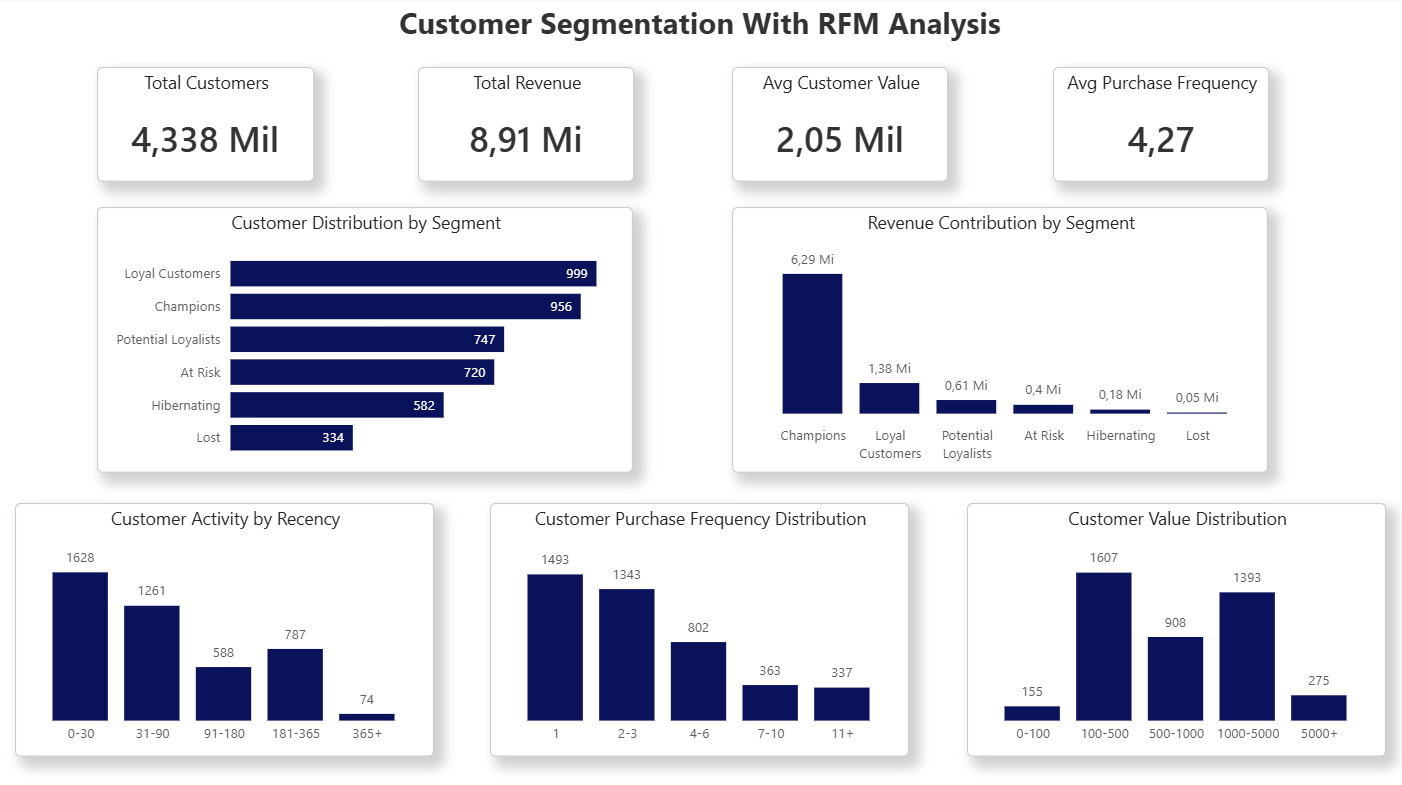

This screenshot's page, from the dashboard's own definition file:
{"tool":"powerbi","page":{"name":"Página 1","canvas":[1280,720],"ordinal":0},"visuals":[{"type":"cardVisual","title":"Total Customers","fields":{"Data":["CountNonNull(Consulta1.CustomerID)"]},"box":[93.4,63.4,196.6,104.2],"z":0},{"type":"clusteredBarChart","title":"Customer Distribution by Segment","fields":{"Category":["Consulta1.rfm_segment"],"Y":["CountNonNull(Consulta1.CustomerID)"]},"box":[93.3,190.2,486.4,241.4],"z":1000},{"type":"cardVisual","title":"Total Revenue","fields":{"Data":["Sum(Consulta1.monetary)"]},"box":[384.1,63.4,196,104.2],"z":2000},{"type":"cardVisual","title":"Avg Purchase Frequency","fields":{"Data":["Avg(Consulta1.frequency)"]},"box":[960.1,63.4,196,104.2],"z":3000},{"type":"cardVisual","title":"Avg Customer Value","fields":{"Data":["Avg(Consulta1.monetary)"]},"box":[669.4,63.4,196,104.2],"z":4000},{"type":"clusteredColumnChart","title":"Revenue Contribution by Segment","fields":{"Category":["Consulta1.rfm_segment"],"Y":["Sum(Consulta1.monetary)"]},"box":[669.3,190.2,486.4,241.4],"z":5000},{"type":"lineClusteredColumnComboChart","title":"Customer Activity by Recency","fields":{"Y":["CountNonNull(Consulta1.CustomerID)"],"Category":["Consulta1.recency_range"]},"box":[19,458.8,379.9,230.3],"z":6000},{"type":"lineClusteredColumnComboChart","title":"Customer Purchase Frequency Distribution","fields":{"Category":["Consulta1.frequency_range"],"Y":["CountNonNull(Consulta1.CustomerID)"]},"box":[449.8,458.8,379.9,230.3],"z":7000},{"type":"lineClusteredColumnComboChart","title":"Customer Value Distribution","fields":{"Y":["CountNonNull(Consulta1.CustomerID)"],"Category":["Consulta1.monetary_range"]},"box":[882.3,458.8,379.9,230.3],"z":8000},{"type":"textbox","box":[0,0,1280.4,53.5],"z":9000}]}

Visuals, with their boxes in screenshot pixels (x1, y1, x2, y2), scaled from the page's 1280x720 canvas onto the 1402x785 screenshot:
"Total Customers" cardVisual: crop(102, 69, 318, 183)
"Customer Distribution by Segment" clusteredBarChart: crop(102, 207, 635, 471)
"Total Revenue" cardVisual: crop(421, 69, 635, 183)
"Avg Purchase Frequency" cardVisual: crop(1052, 69, 1266, 183)
"Avg Customer Value" cardVisual: crop(733, 69, 948, 183)
"Revenue Contribution by Segment" clusteredColumnChart: crop(733, 207, 1266, 471)
"Customer Activity by Recency" lineClusteredColumnComboChart: crop(21, 500, 437, 751)
"Customer Purchase Frequency Distribution" lineClusteredColumnComboChart: crop(493, 500, 909, 751)
"Customer Value Distribution" lineClusteredColumnComboChart: crop(966, 500, 1383, 751)
textbox: crop(0, 0, 1401, 58)
